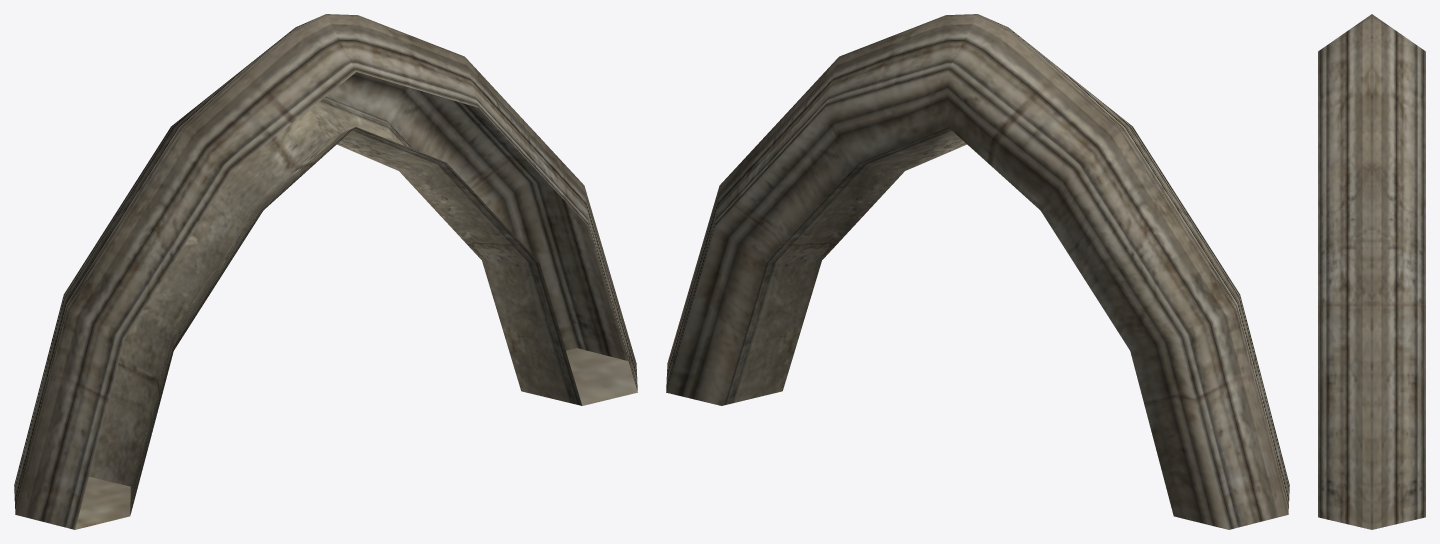
Rendered from SM_EN_2005_zhizi05.FBX.
3 renders of one model, left to right at view 1: azimuth 30°, elevation 25°; view 2: azimuth 150°, elevation 25°; view 3: azimuth 270°, elevation 25°, orthographic. The views are drawn at different scales.
Parts seen in each view (by area): view 1: SM_EN_2005_zhizi05; view 2: SM_EN_2005_zhizi05; view 3: SM_EN_2005_zhizi05.
Part boxes in pixels (x1=…): SM_EN_2005_zhizi05: x1=14, y1=14, x2=637, y2=529; SM_EN_2005_zhizi05: x1=666, y1=14, x2=1289, y2=529; SM_EN_2005_zhizi05: x1=1318, y1=14, x2=1425, y2=529.
Bounding box in the file's own units: 101 × 65.75 × 17.09.
